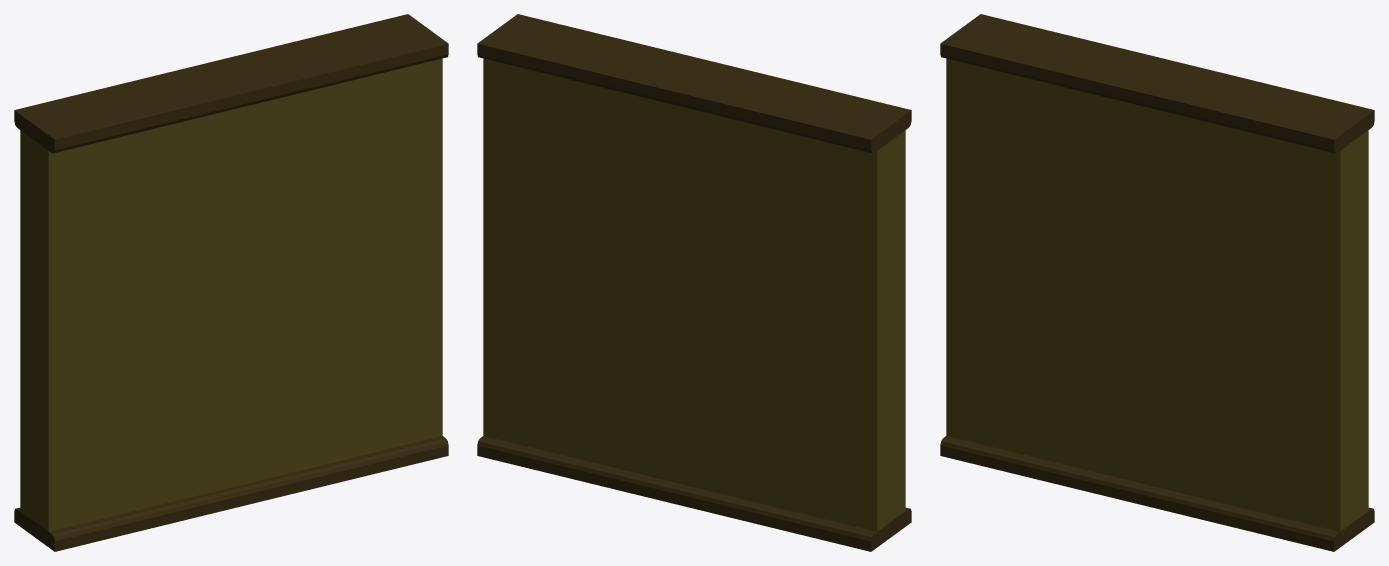
Rendered from Wall.fbx.
The picture shows the model from 3 angles, left to right: view 1: azimuth 30°, elevation 25°; view 2: azimuth 150°, elevation 25°; view 3: azimuth 330°, elevation 25°; orthographic projection.
Parts seen in each view (by area): view 1: Wall; view 2: Wall; view 3: Wall.
Boxes of the visible parts, bbox=[...] form: Wall: bbox=[14, 14, 448, 551]; Wall: bbox=[477, 14, 911, 551]; Wall: bbox=[940, 14, 1374, 551].
Bounding box in the file's own units: 400 × 400 × 71.24.
